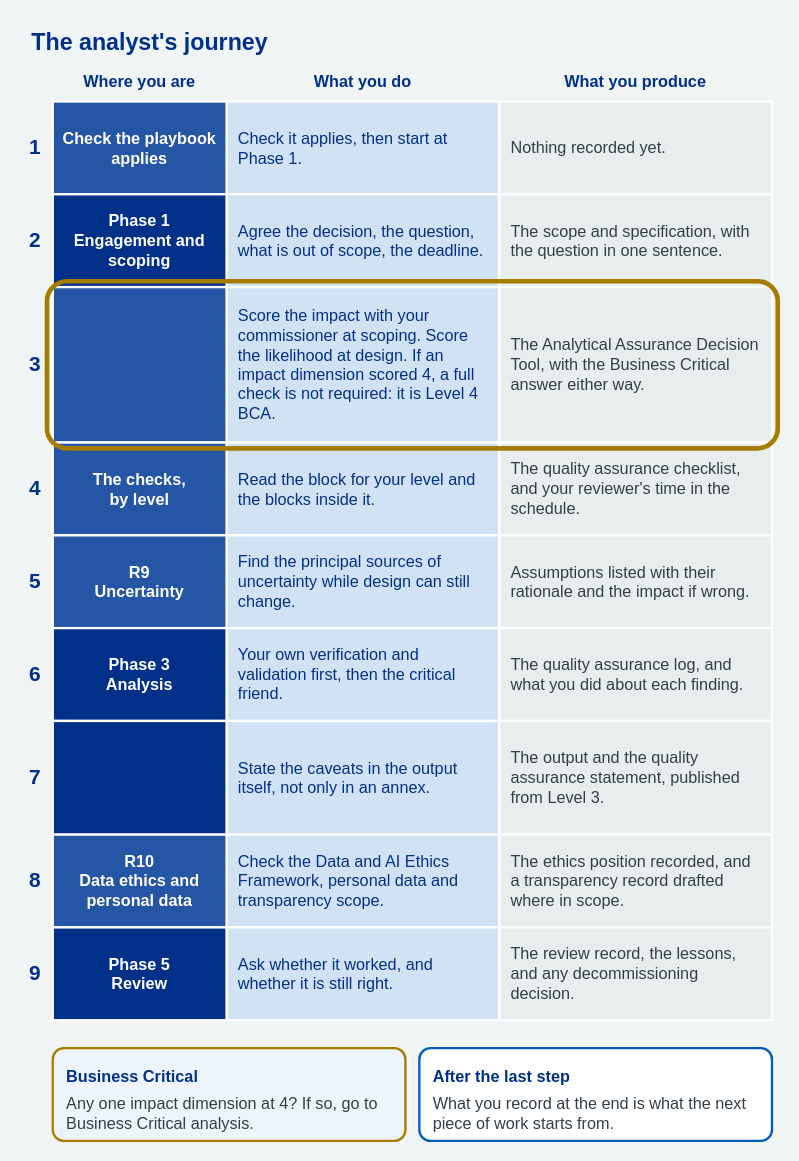
Some shapes in this 799 by 1161 pixel diagram are drawn without their labels. The shapes that lost their labels are listed below. From the top down, each one's box as (x1, y1, x2, y2) in pixels, then its label:
(51, 285, 227, 443): Deciding your assurance level
(51, 719, 227, 835): Phase 4 Delivery, communication and sign-off
